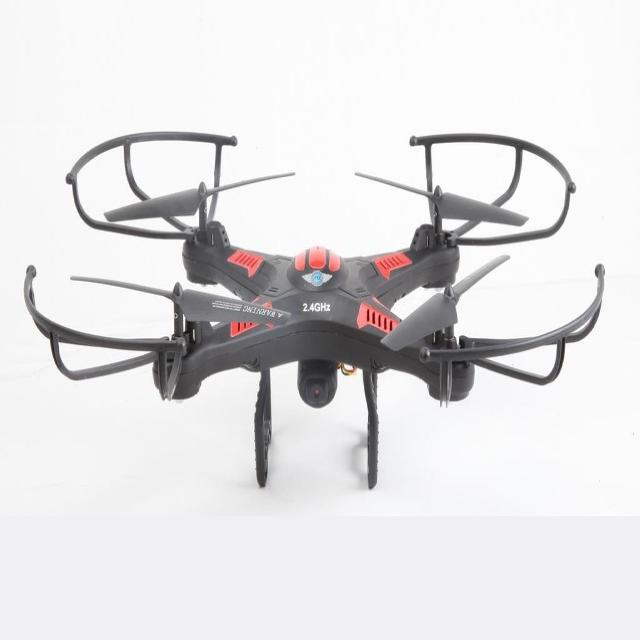drone: (13, 93, 631, 493)
